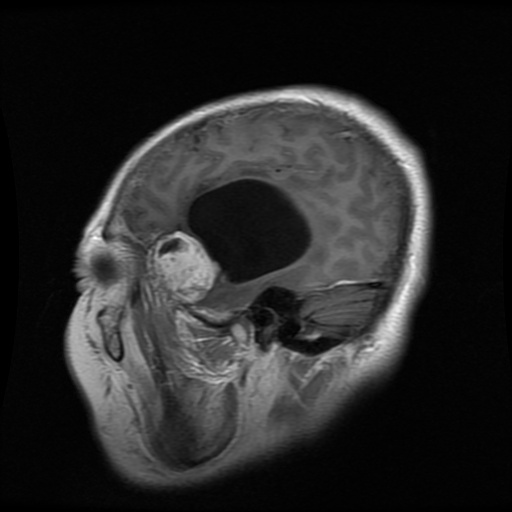meningioma: (148, 230, 214, 302)
